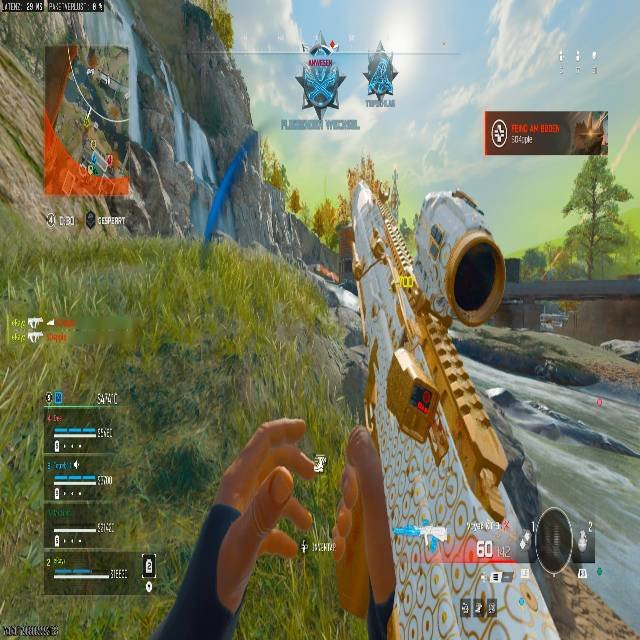player: (296, 43, 346, 120), (366, 55, 398, 101)
